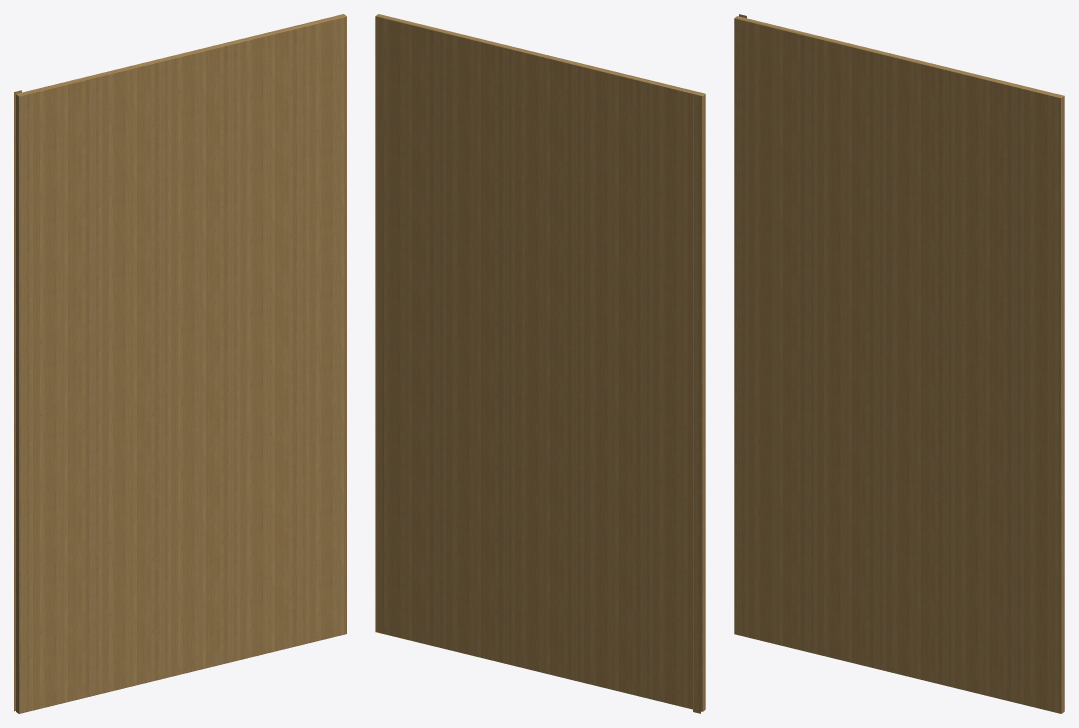
3 views of the same model, side by side, from view 1: azimuth 30°, elevation 25°; view 2: azimuth 150°, elevation 25°; view 3: azimuth 330°, elevation 25° (orthographic).
Parts seen in each view (by area): view 1: part16:cabinet door 1; view 2: part16:cabinet door 1; view 3: part16:cabinet door 1.
Part boxes in pixels (bbox=[...]): part16:cabinet door 1: bbox=[14, 14, 346, 713]; part16:cabinet door 1: bbox=[375, 14, 705, 713]; part16:cabinet door 1: bbox=[734, 14, 1064, 713].
Size of the model in its own units: 1.19 by 2.14 by 0.0306.
1 material, 1 textured.
